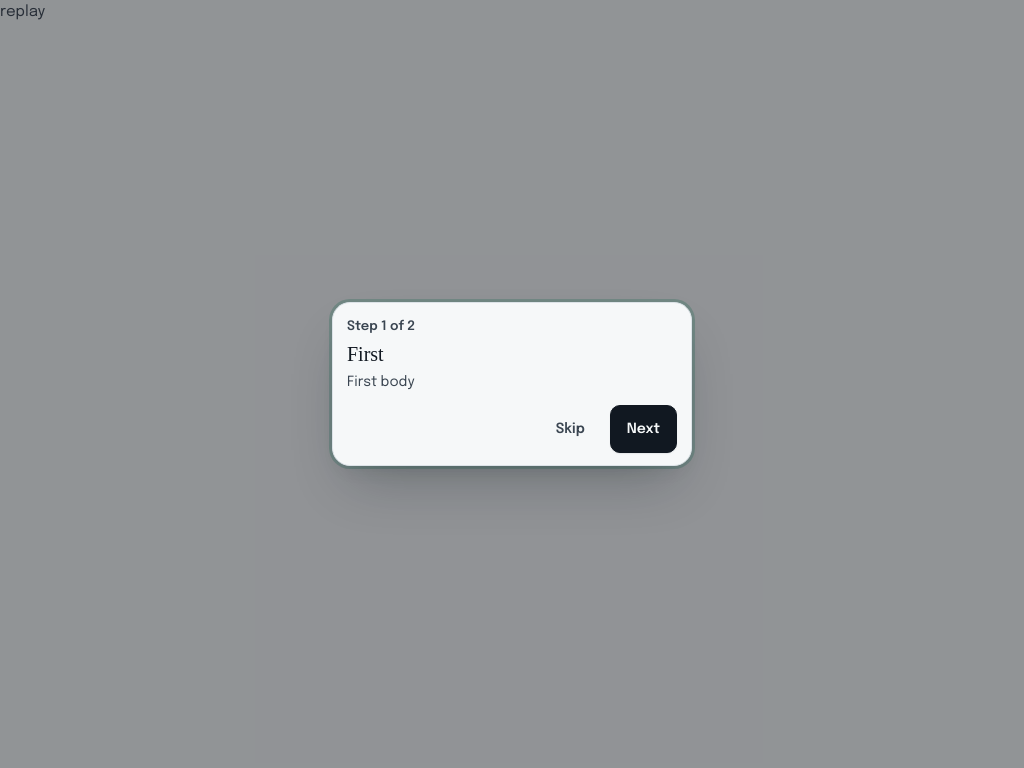
it: guidance runtime › supports keyboard progression backwards and forwards
The image size is (1024, 768).
expect the button "Back" is not shown: met
Click the button "Next" at (643, 429), box x1=610 y1=405 x2=677 y2=453
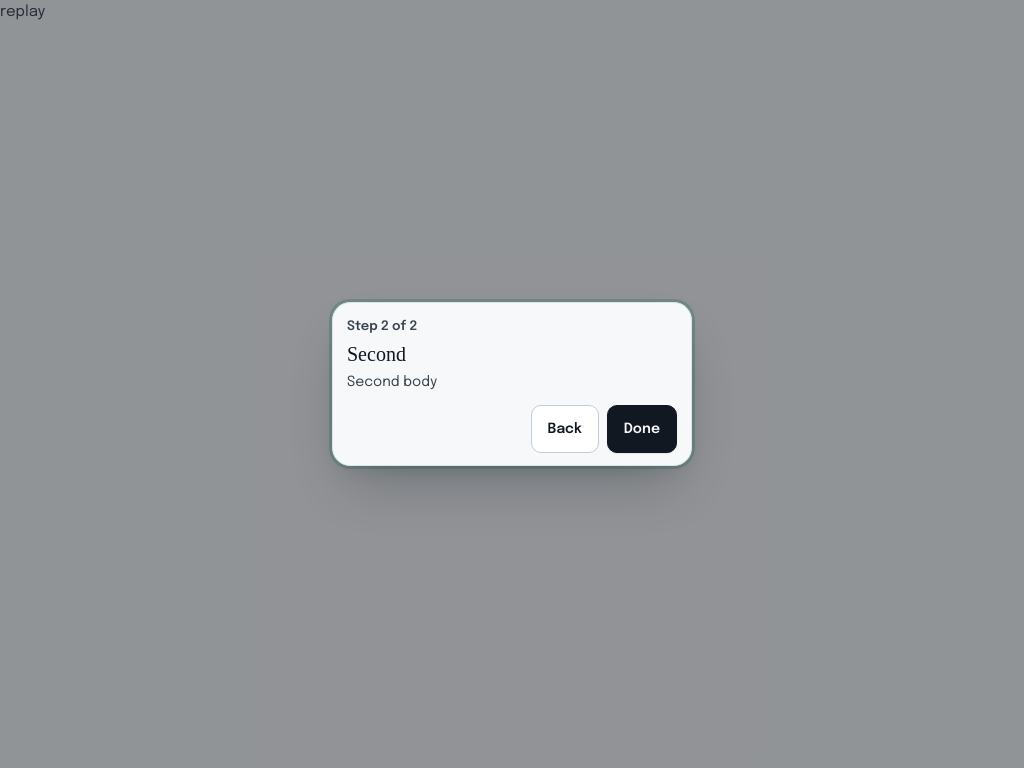
expect the heading "Second" is shown: met, box x1=347 y1=343 x2=406 y2=365
Click the button "Back" at (565, 429), box x1=531 y1=405 x2=599 y2=453
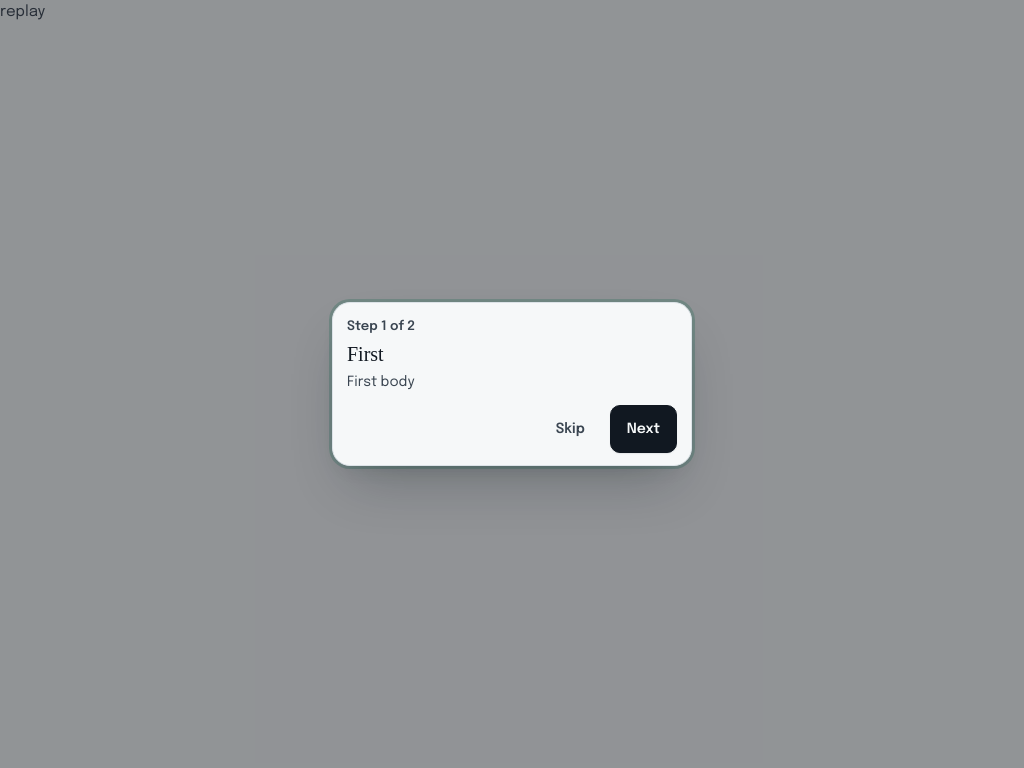
expect the heading "First" is shown: met, box x1=347 y1=343 x2=384 y2=365
